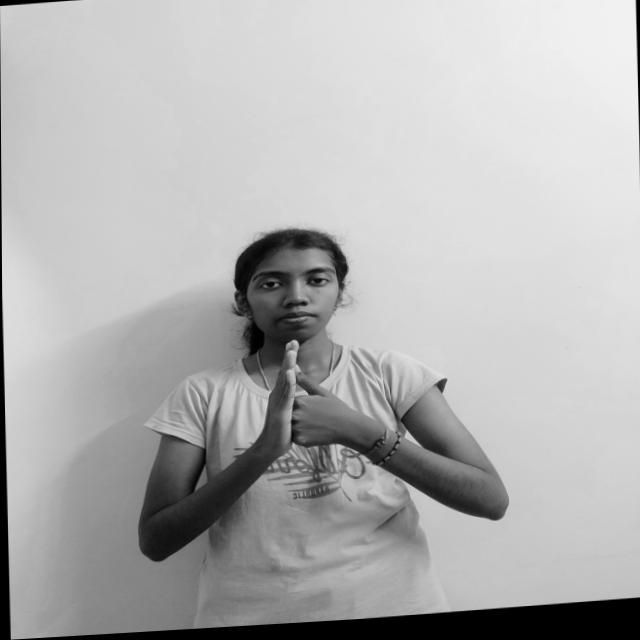Well Done: (239, 332, 386, 479)
